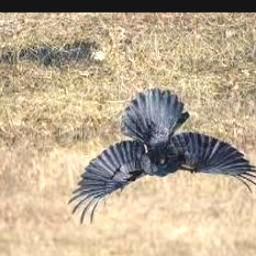Crow: (66, 90, 256, 225)
